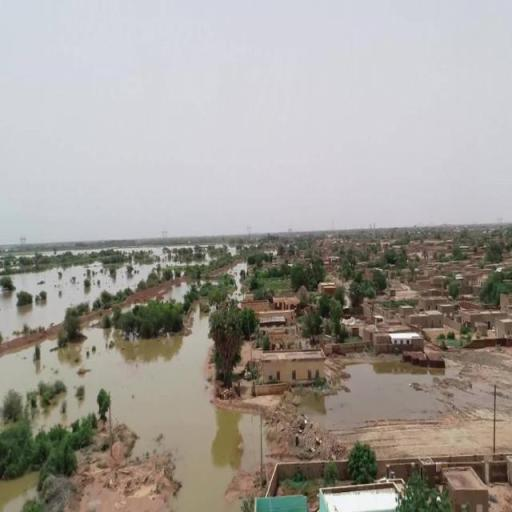flood: (0, 312, 260, 512), (0, 264, 155, 338), (301, 362, 446, 431)
house: (313, 478, 407, 511), (249, 350, 326, 388), (441, 465, 490, 512), (255, 492, 308, 512), (388, 330, 419, 352)
